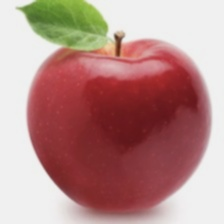apple: (3, 29, 183, 224)
